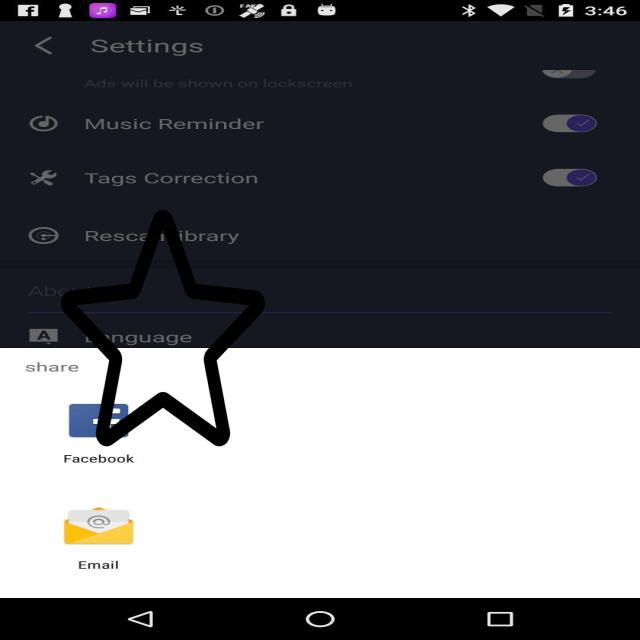forced continuity: (61, 205, 265, 451)
